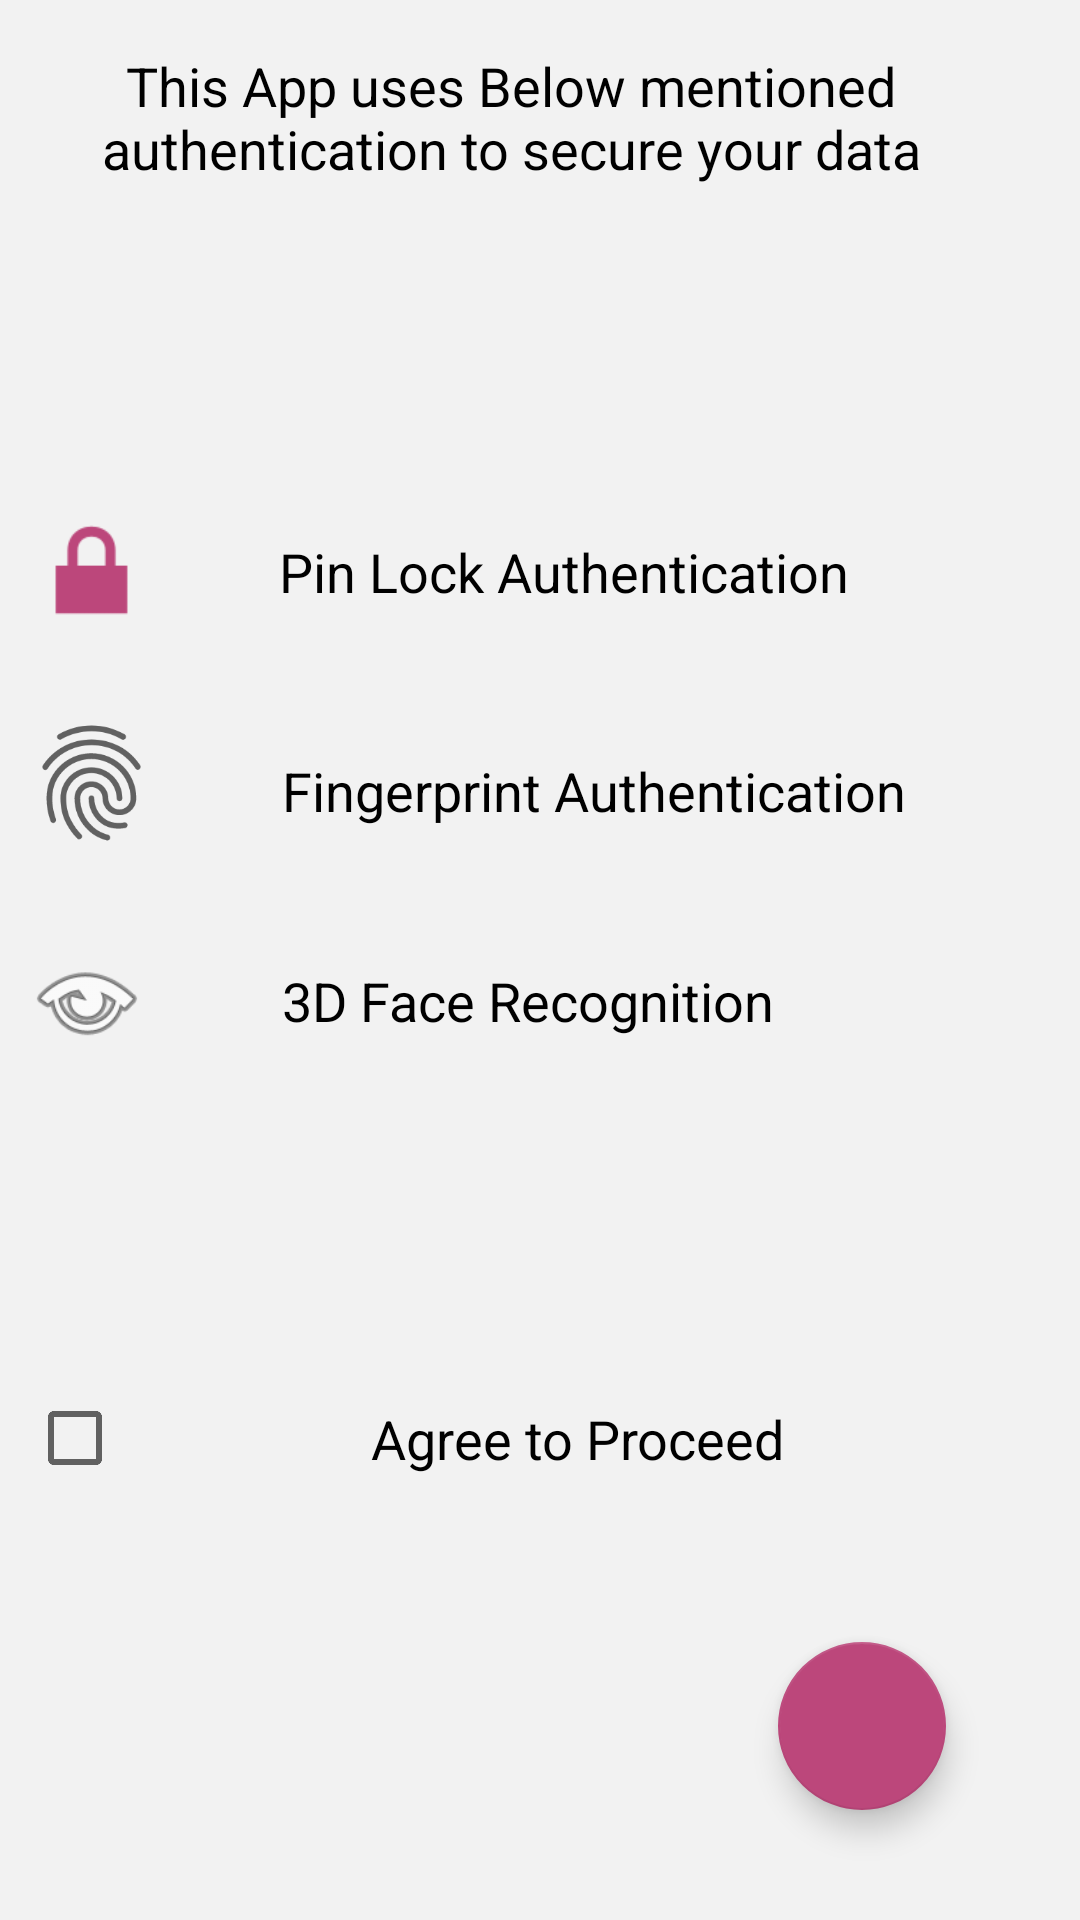

Where to tap for icons on this 1080px x 1920px app screen, as [x,y]:
lockimage: [91,570]
view: [87,1003]
